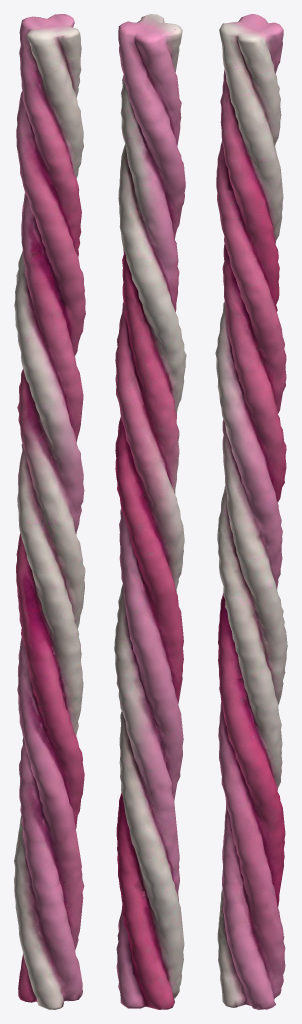
3 renders of one model, left to right at view 1: azimuth 30°, elevation 25°; view 2: azimuth 150°, elevation 25°; view 3: azimuth 330°, elevation 25°, orthographic.
Bounding box in the file's own units: 0.1213 × 1.91 × 0.1213.
1 material, 1 textured.
